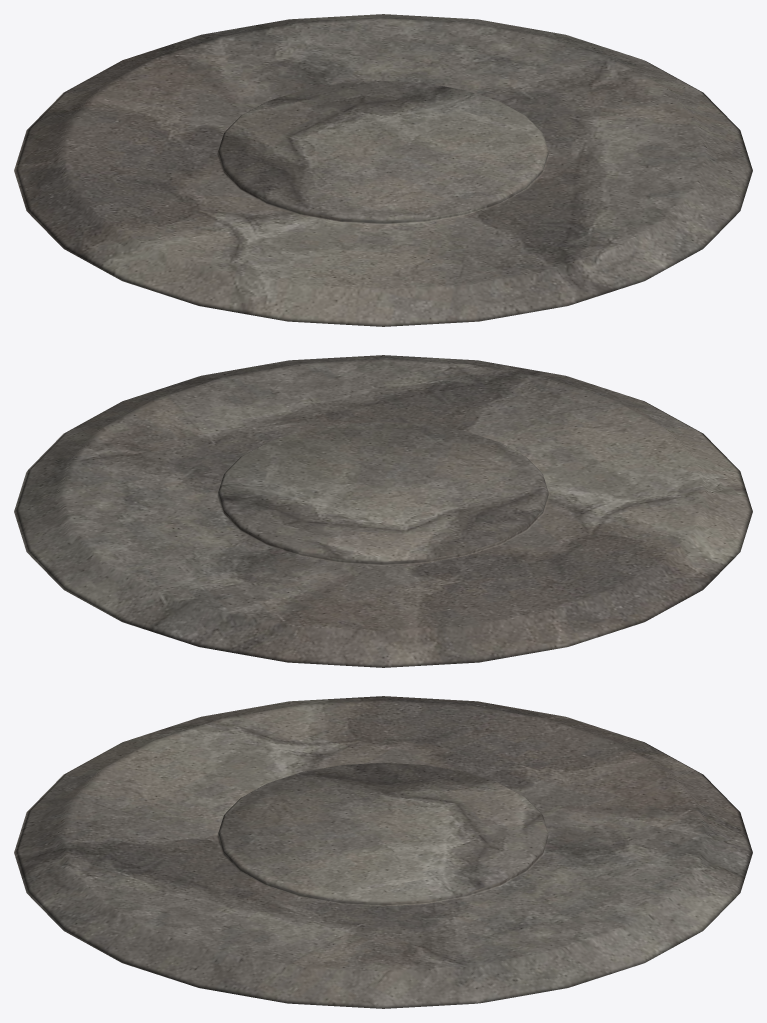
File: pressure.glb
3 views of the same model, one above another, from view 1: azimuth 30°, elevation 25°; view 2: azimuth 150°, elevation 25°; view 3: azimuth 270°, elevation 25° (orthographic).
Parts seen in each view (by area): view 1: Object_6.008; view 2: Object_6.008; view 3: Object_6.008.
Boxes of the visible parts, x1,y1,x2,y2 form: Object_6.008: (14,14,752,326); Object_6.008: (14,355,752,667); Object_6.008: (14,696,752,1008).
Bounding box in the file's own units: 9.08 × 0.2912 × 9.08.
1 material, 1 textured.
